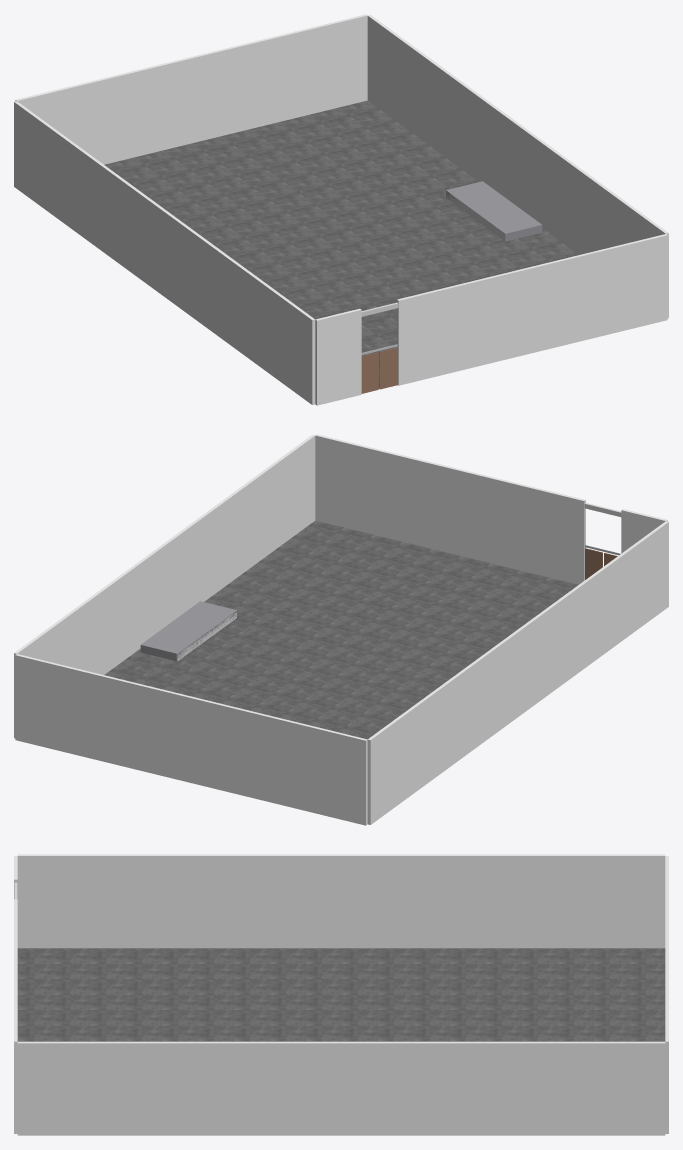
Rendered from Hampton.glb.
The picture shows the model from 3 angles, top to bottom: view 1: azimuth 30°, elevation 25°; view 2: azimuth 150°, elevation 25°; view 3: azimuth 270°, elevation 25°; orthographic projection. The views are drawn at different scales.
Visible parts, largest first — view 1: Tile_Floor, Wall_Back, Wall_Left, Wall_Front_Right_Segment, Wall_Right, Wall_Front_Left_Segment, Stage, Door_Right, Door_Left; view 2: Tile_Floor, Wall_Back, Wall_Left, Wall_Front_Right_Segment, Wall_Right, Stage, Wall_Front_Left_Segment; view 3: Wall_Left, Wall_Right, Tile_Floor, Wall_Back, Wall_Front_Right_Segment.
Part boxes in pixels (box(x1,y1,x2,y2)): Tile_Floor: box(104, 100, 578, 388); Wall_Back: box(15, 14, 367, 164); Wall_Left: box(14, 101, 315, 404); Wall_Front_Right_Segment: box(397, 234, 667, 385); Wall_Right: box(367, 15, 668, 318); Wall_Front_Left_Segment: box(315, 308, 361, 405); Stage: box(446, 181, 542, 241); Door_Right: box(379, 347, 397, 389); Door_Left: box(361, 352, 378, 393); Tile_Floor: box(104, 520, 578, 739); Wall_Back: box(15, 654, 367, 825); Wall_Left: box(367, 521, 668, 824); Wall_Front_Right_Segment: box(315, 434, 585, 584); Wall_Right: box(14, 435, 315, 738); Stage: box(140, 601, 236, 661); Wall_Front_Left_Segment: box(621, 509, 667, 553); Wall_Left: box(17, 854, 665, 948); Wall_Right: box(17, 1041, 665, 1135); Tile_Floor: box(17, 948, 665, 1041); Wall_Back: box(665, 856, 668, 1133); Wall_Front_Right_Segment: box(14, 899, 17, 1133).
Size of the model in its own units: 29.46 by 6.71 by 43.17.
Materials: 6 (1 with a texture image).
